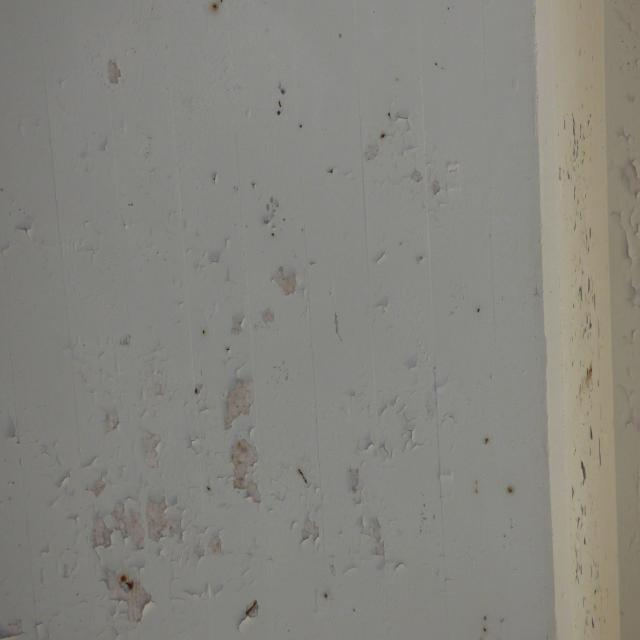corrosion: (117, 569, 139, 596), (244, 594, 261, 620), (296, 465, 312, 488), (209, 0, 221, 14), (202, 482, 214, 494), (192, 385, 200, 399), (201, 328, 207, 338)
